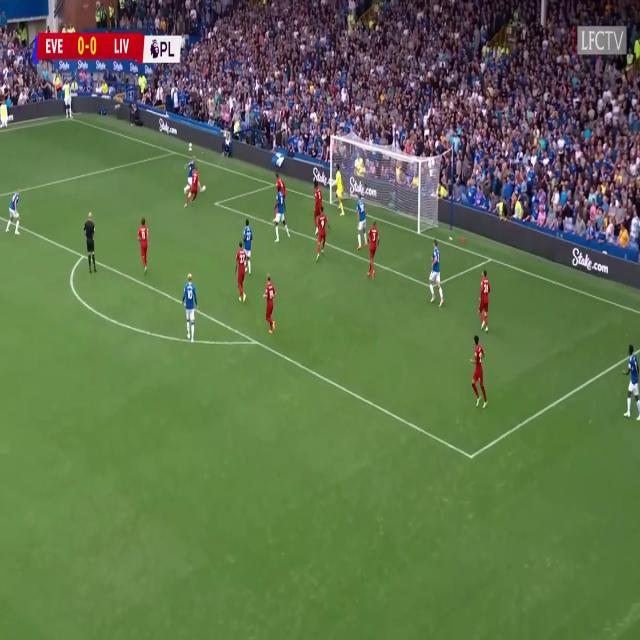Ball: (202, 184, 206, 191)
GoalKeeper: (330, 162, 346, 216)
Referee: (82, 210, 99, 275)
TEAM 1: (469, 330, 490, 410), (262, 273, 278, 336), (316, 204, 332, 262), (234, 239, 248, 303), (478, 267, 491, 335), (137, 215, 151, 278), (184, 167, 203, 210), (367, 217, 380, 279), (274, 171, 288, 215), (313, 177, 324, 232)
TEAM 2: (621, 340, 640, 421), (428, 237, 446, 308), (182, 270, 199, 343), (274, 185, 291, 242), (5, 186, 22, 237), (241, 217, 254, 275), (184, 155, 202, 194), (356, 191, 368, 249)
